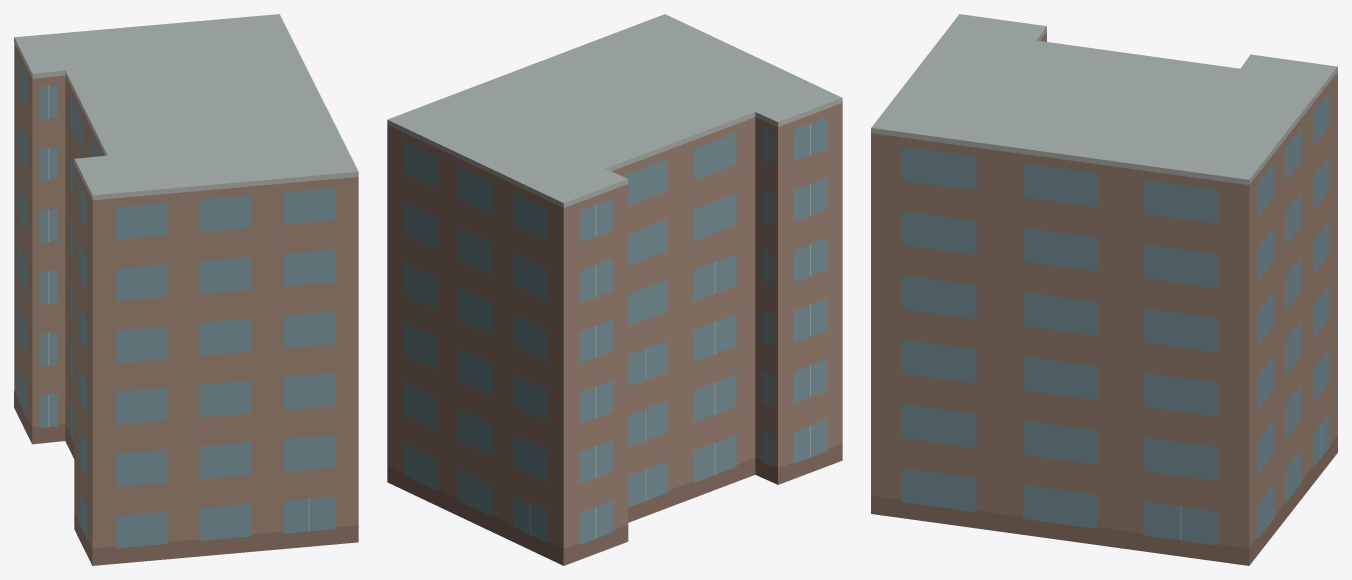
The model's file is survey-upis-33026933.glb.
3 views of the same model, side by side, from view 1: azimuth 30°, elevation 25°; view 2: azimuth 150°, elevation 25°; view 3: azimuth 270°, elevation 25° (orthographic). The views are drawn at different scales.
Visible parts, largest first — view 1: survey-upis-33026933.tmp; view 2: survey-upis-33026933.tmp; view 3: survey-upis-33026933.tmp.
Part boxes in pixels (<box>): survey-upis-33026933.tmp: <box>14,14,358,565</box>; survey-upis-33026933.tmp: <box>387,14,842,565</box>; survey-upis-33026933.tmp: <box>871,14,1337,565</box>.
Size of the model in its own units: 16.5 by 17.9 by 19.62.
